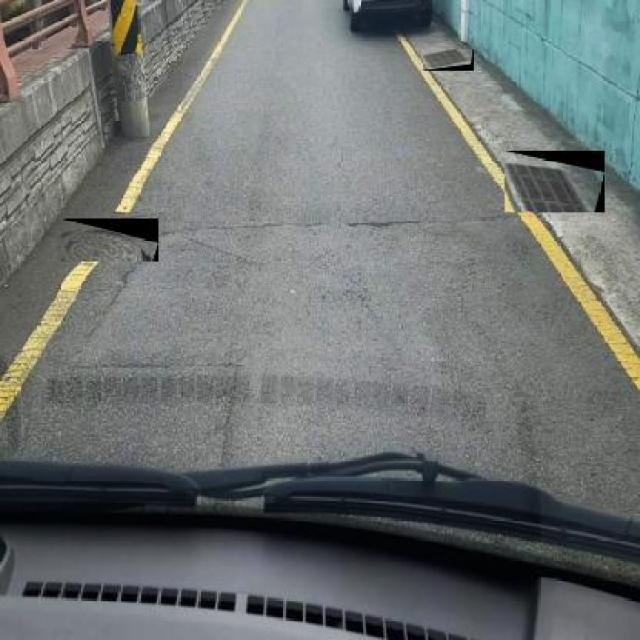Manhole: (504, 151, 604, 212), (62, 218, 158, 262), (423, 50, 474, 72)
